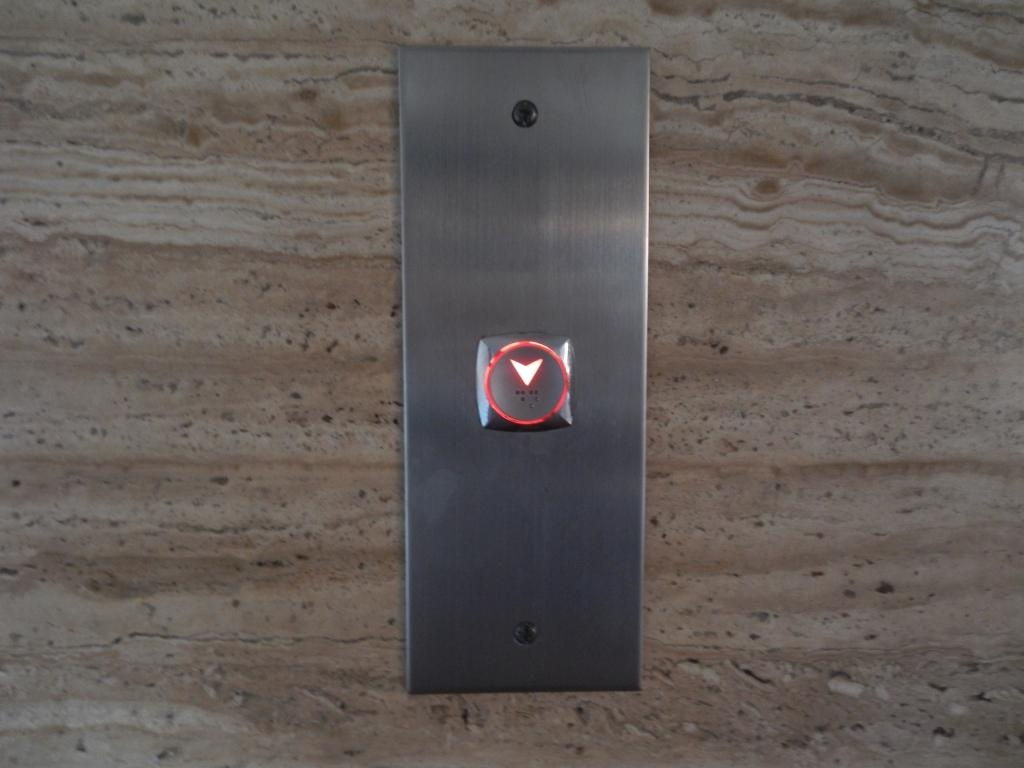down: (477, 334, 578, 434)
